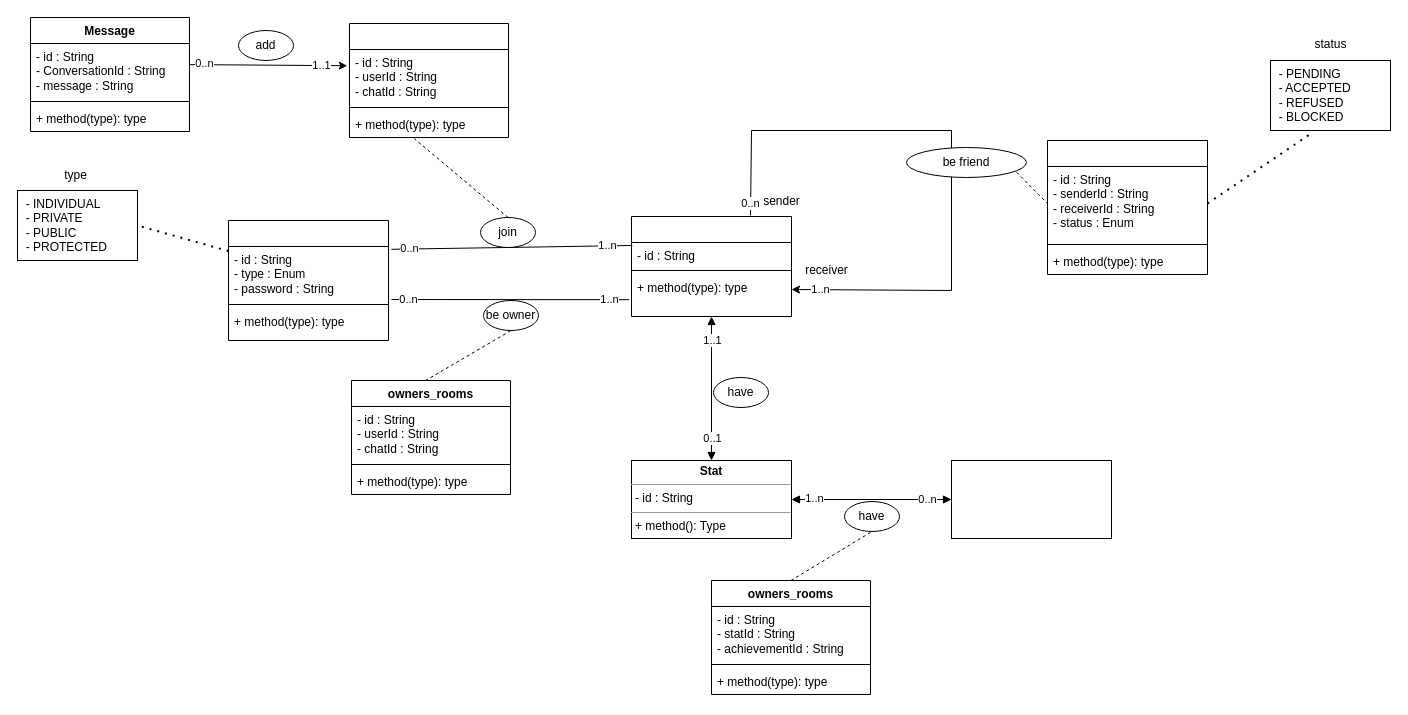
The diagram is 1408 pixels wide and 715 high, and some of its shapes have lost their labels. The shapes that lost their labels are listed below. From the top down, each one's box as (x1, y1, x2, y2) in pixels, then its label:
(348, 22, 508, 138): Conversation
(1046, 140, 1208, 274): Friendship
(228, 220, 388, 340): Chat
(630, 216, 792, 316): User
(950, 460, 1112, 538): Achievement - id : String + method(): Type
